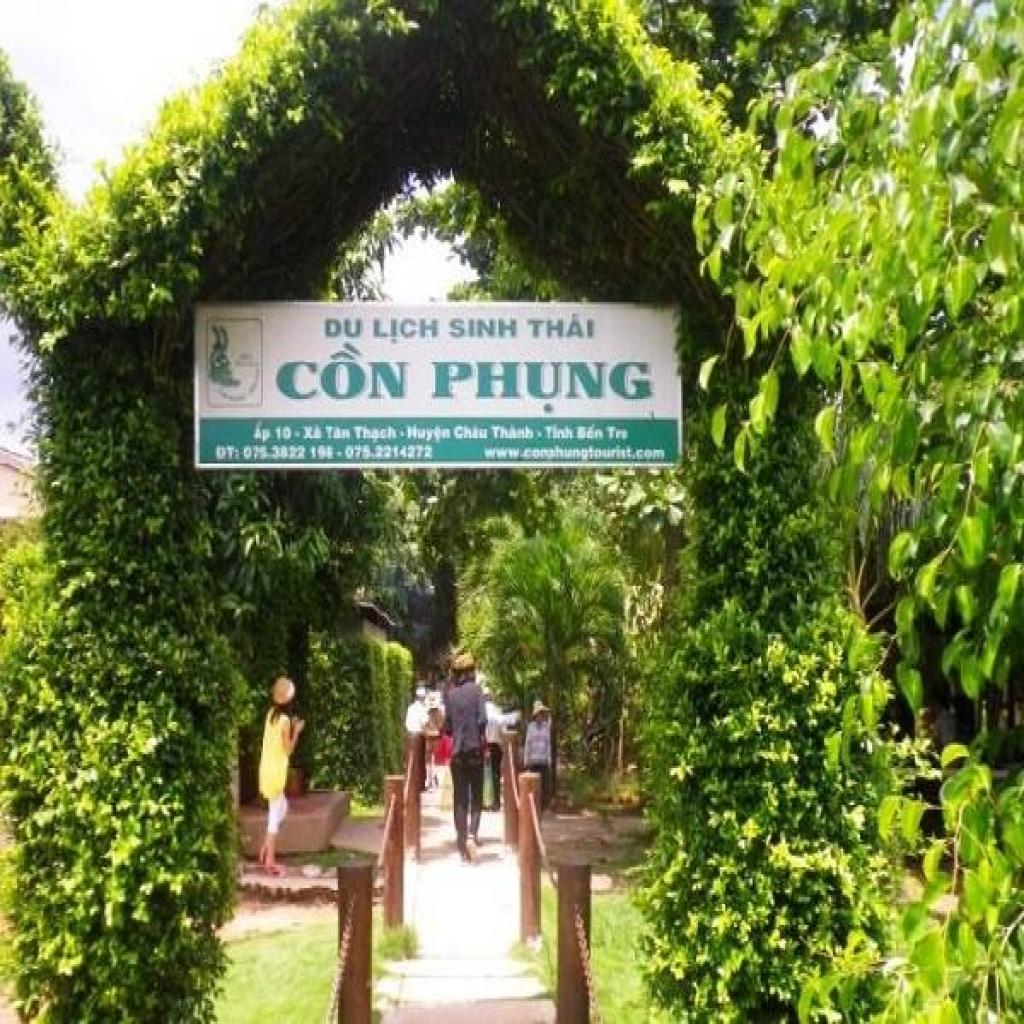text: (426, 355, 654, 418), (275, 341, 413, 406), (526, 309, 599, 344), (372, 314, 442, 348), (447, 314, 521, 344), (242, 443, 338, 466), (344, 442, 438, 464), (323, 314, 365, 341), (406, 424, 454, 445), (354, 424, 400, 445), (490, 422, 536, 443), (452, 424, 490, 443), (543, 422, 577, 443), (575, 422, 608, 443), (253, 418, 273, 448), (215, 442, 242, 464), (324, 424, 354, 443), (604, 424, 632, 443), (274, 422, 294, 443), (304, 422, 324, 443)
